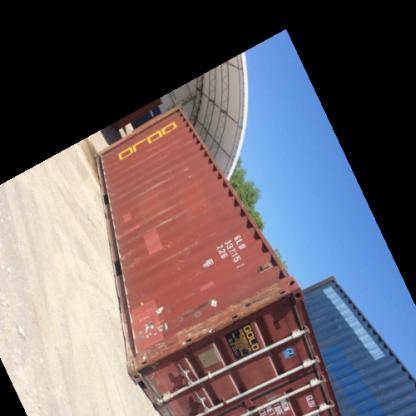Damage: (216, 280, 290, 328), (119, 202, 188, 233), (112, 168, 176, 194), (134, 301, 168, 341), (172, 322, 214, 348), (166, 238, 201, 264), (181, 299, 214, 319), (119, 246, 145, 268), (184, 165, 199, 181)
